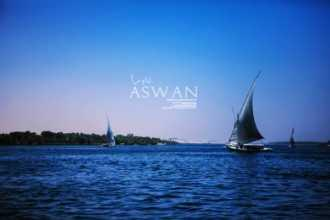fanchuan: (222, 70, 282, 153), (98, 112, 128, 150)
